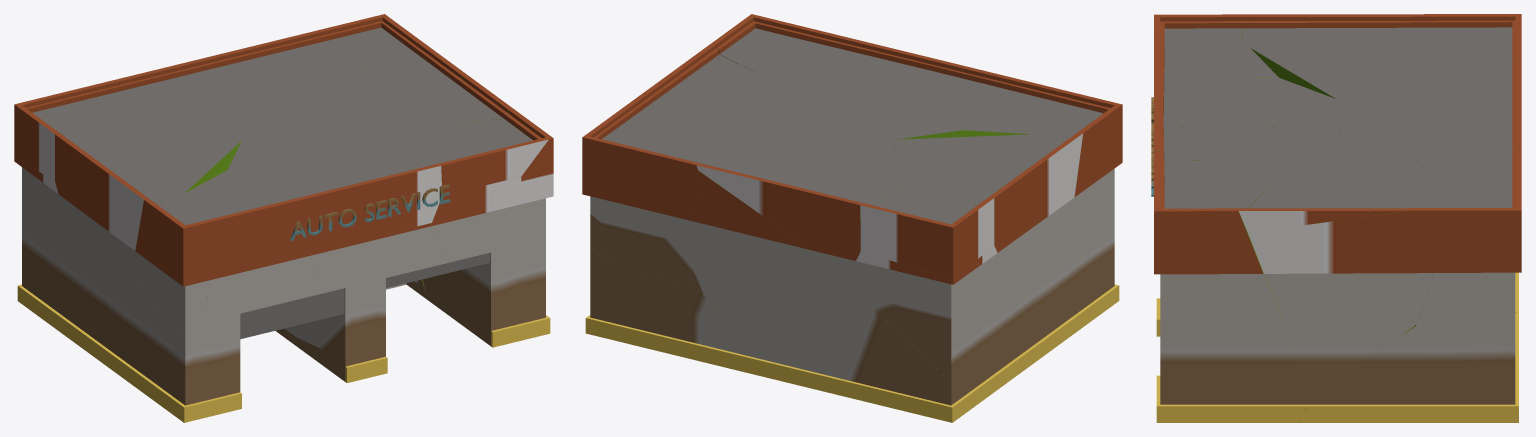
File: Auto_service_cell.fbx
3 views of the same model, side by side, from view 1: azimuth 30°, elevation 25°; view 2: azimuth 150°, elevation 25°; view 3: azimuth 270°, elevation 25° (orthographic). The views are drawn at different scales.
Parts seen in each view (by area): view 1: polySurface1_cell.021, polySurface1_cell.010, polySurface1_cell.007, polySurface1_cell.003, polySurface1_cell.015, polySurface1_cell.017, polySurface1_cell.005, polySurface1_cell, polySurface1_cell.001, polySurface1_cell.002, polySurface1_cell.004, polySurface1_cell.020 (+6 smaller); view 2: polySurface1_cell.021, polySurface1_cell.007, polySurface1_cell.008, polySurface1_cell.013, polySurface1_cell.012, polySurface1_cell.009, polySurface1_cell.005, polySurface1_cell.020, polySurface1_cell.014, polySurface1_cell.010, polySurface1_cell.001, polySurface1_cell (+6 smaller); view 3: polySurface1_cell.005, polySurface1_cell.018, polySurface1_cell.006, polySurface1_cell.008, polySurface1_cell.007, polySurface1_cell.021, polySurface1_cell.001, polySurface1_cell.002, polySurface1_cell.004, polySurface1_cell.020, polySurface1_cell.017, polySurface1_cell.011 (+2 smaller).
Part boxes in pixels (x1,y1,x2,y2): polySurface1_cell.021: (55, 121, 241, 340); polySurface1_cell.010: (106, 274, 312, 422); polySurface1_cell.007: (107, 42, 327, 139); polySurface1_cell.003: (275, 223, 449, 382); polySurface1_cell.015: (422, 176, 521, 347); polySurface1_cell.017: (172, 170, 314, 299); polySurface1_cell.005: (318, 35, 498, 128); polySurface1_cell: (134, 198, 219, 332); polySurface1_cell.001: (379, 110, 548, 193); polySurface1_cell.002: (293, 120, 441, 235); polySurface1_cell.004: (228, 137, 360, 266); polySurface1_cell.020: (14, 82, 144, 181); polySurface1_cell.021: (893, 132, 1083, 334); polySurface1_cell.007: (696, 121, 903, 274); polySurface1_cell.008: (582, 116, 747, 284); polySurface1_cell.013: (769, 285, 1043, 422); polySurface1_cell.012: (693, 164, 850, 368); polySurface1_cell.009: (849, 245, 1026, 381); polySurface1_cell.005: (611, 56, 815, 133); polySurface1_cell.020: (860, 184, 994, 279); polySurface1_cell.014: (616, 266, 769, 378); polySurface1_cell.010: (1037, 213, 1119, 355); polySurface1_cell.001: (713, 15, 863, 95); polySurface1_cell: (1052, 95, 1122, 237); polySurface1_cell.005: (1248, 141, 1458, 394); polySurface1_cell.018: (1154, 208, 1312, 422); polySurface1_cell.006: (1299, 326, 1518, 422); polySurface1_cell.008: (1404, 150, 1521, 329); polySurface1_cell.007: (1338, 63, 1521, 160); polySurface1_cell.021: (1239, 14, 1432, 99); polySurface1_cell.001: (1154, 151, 1289, 210); polySurface1_cell.002: (1154, 118, 1340, 160); polySurface1_cell.004: (1154, 66, 1338, 115); polySurface1_cell.020: (1432, 14, 1521, 72); polySurface1_cell.017: (1154, 33, 1278, 77); polySurface1_cell.011: (1154, 105, 1337, 127).
Bounding box in the file's own units: 1785 × 904 × 1421.
